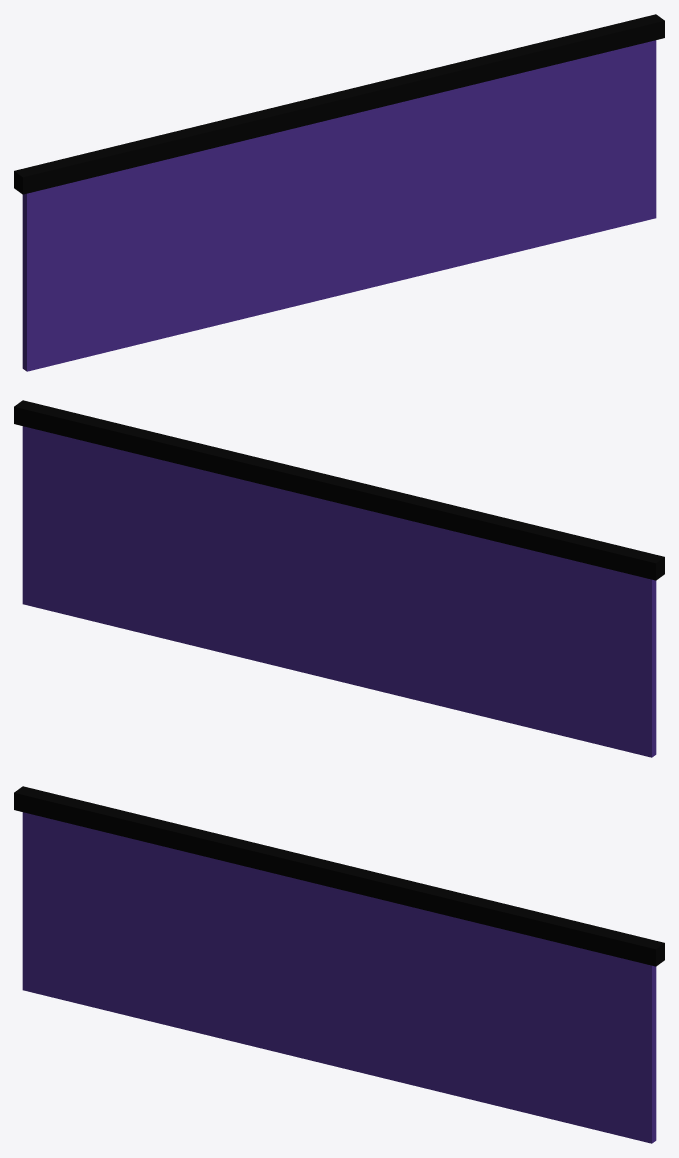
The model's file is separator1.fbx.
3 renders of one model, top to bottom at view 1: azimuth 30°, elevation 25°; view 2: azimuth 150°, elevation 25°; view 3: azimuth 330°, elevation 25°, orthographic.
Parts seen in each view (by area): view 1: separator1; view 2: separator1; view 3: separator1.
Boxes of the visible parts, box(x1,y1,x2,y2) form: separator1: box(14, 14, 664, 371); separator1: box(14, 400, 664, 757); separator1: box(14, 786, 664, 1143).
Size of the model in its own units: 166 by 48.8 by 3.98.
